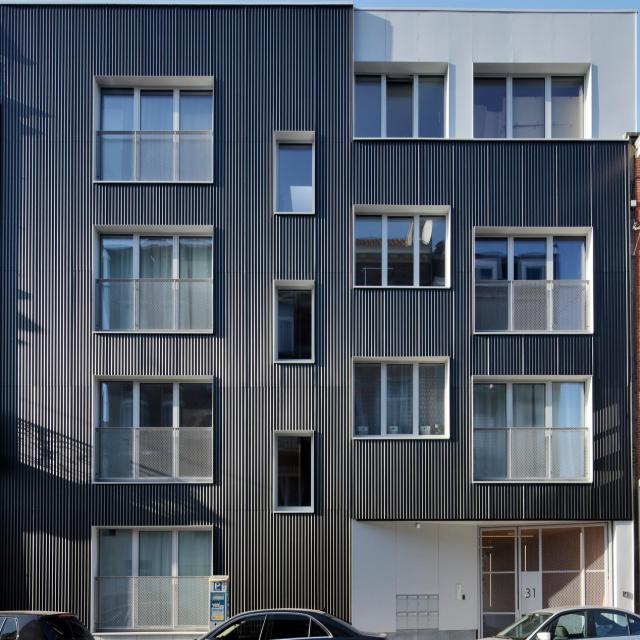Railing: (93, 573, 211, 629), (97, 427, 213, 483), (96, 278, 214, 333), (472, 428, 590, 482), (94, 130, 212, 182), (476, 280, 586, 334)
door: (476, 524, 610, 638)
wall: (0, 4, 638, 639)
windows: (473, 77, 585, 138), (354, 364, 446, 436), (354, 212, 444, 284), (356, 73, 440, 138), (96, 531, 212, 576), (474, 381, 590, 426), (97, 382, 213, 426), (474, 234, 590, 278), (99, 233, 214, 277), (102, 86, 212, 131), (280, 289, 312, 360), (277, 436, 309, 507), (278, 142, 310, 213)
